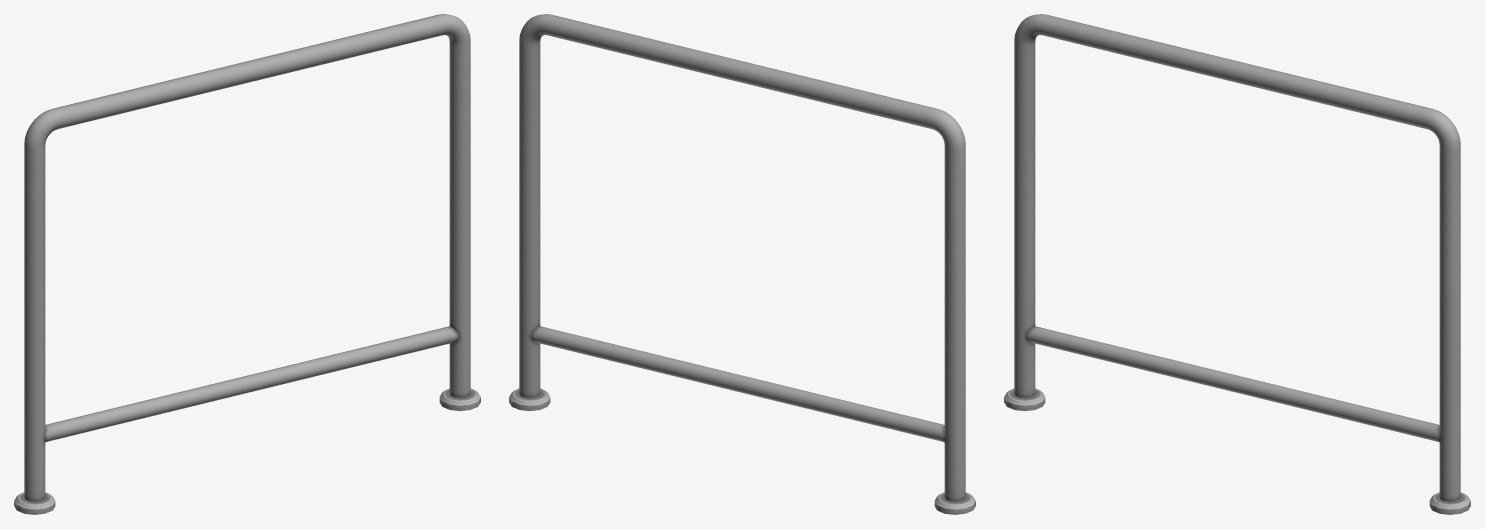
The model's file is MetalBarrier.fbx.
3 views of the same model, side by side, from view 1: azimuth 30°, elevation 25°; view 2: azimuth 150°, elevation 25°; view 3: azimuth 330°, elevation 25° (orthographic).
Visible parts, largest first — view 1: MetalBarrier; view 2: MetalBarrier; view 3: MetalBarrier.
Part boxes in pixels (x1=…): MetalBarrier: x1=14, y1=14, x2=480, y2=514; MetalBarrier: x1=509, y1=14, x2=975, y2=514; MetalBarrier: x1=1004, y1=14, x2=1470, y2=514.
Size of the model in its own units: 126 by 102 by 9.76.
